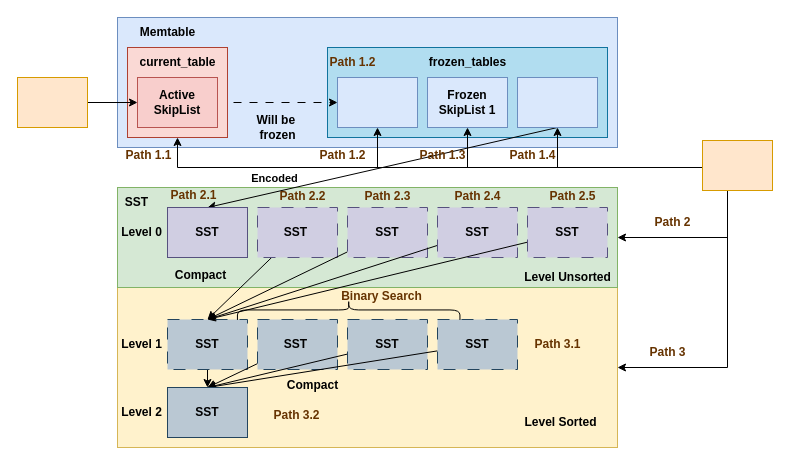
Some shapes in this 790 by 465 pixel diagram are drawn without their labels. The shapes that lost their labels are listed below. From the top down, each one's centre as x and y in pixels, then its label:
At [52,102]: "Put(k1, v1)".
At [377,102]: "Frozen SkipList 2".
At [557,102]: "Frozen SkipList 0".
At [737,165]: "Get(k1)".
